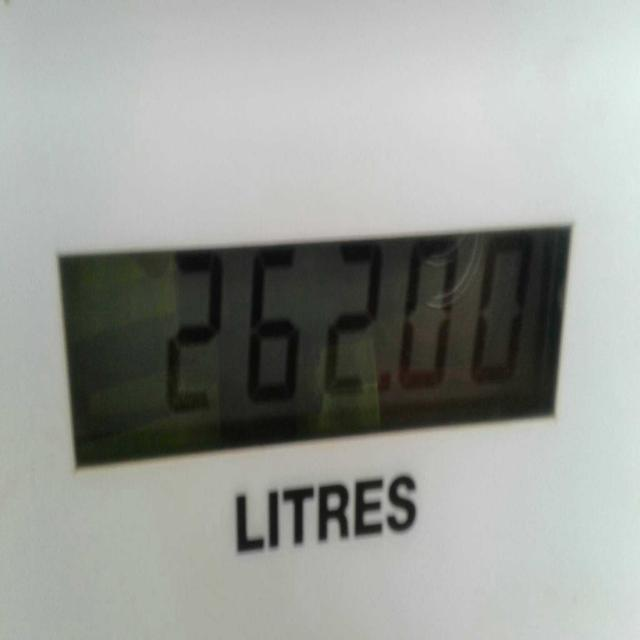.: (377, 352, 404, 408)
0: (398, 236, 466, 434), (472, 242, 524, 390)
2: (163, 245, 234, 429), (316, 236, 384, 424)
6: (240, 253, 312, 422)
